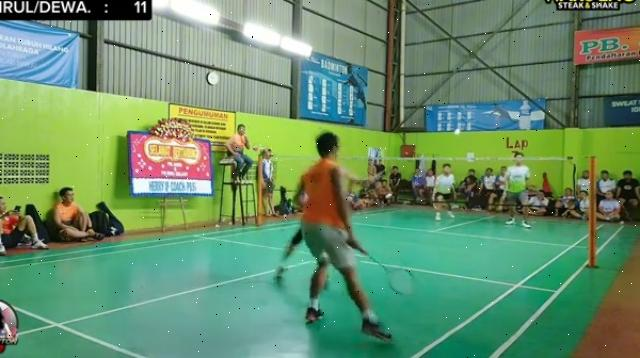Shuttlecock: (454, 125, 466, 137)
